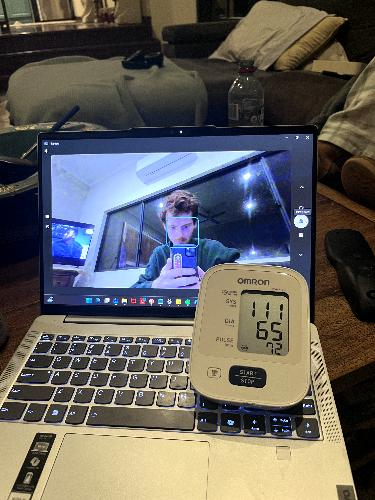bpm: (236, 290, 293, 358)
